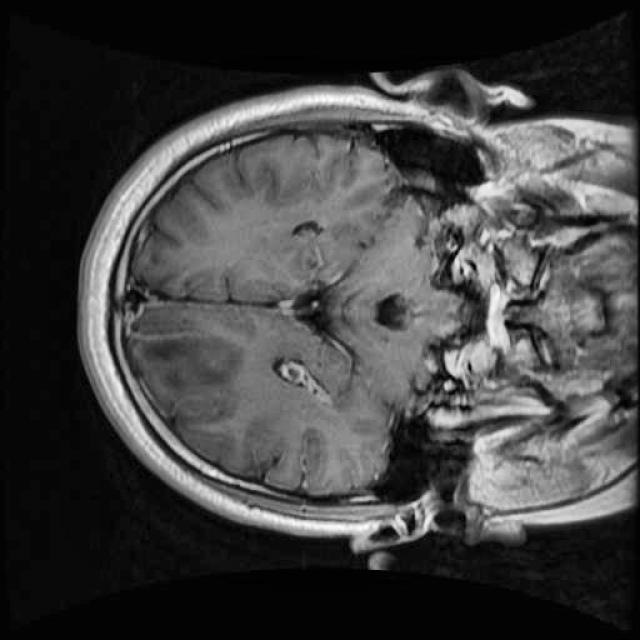Tumor: (141, 290, 255, 411)
